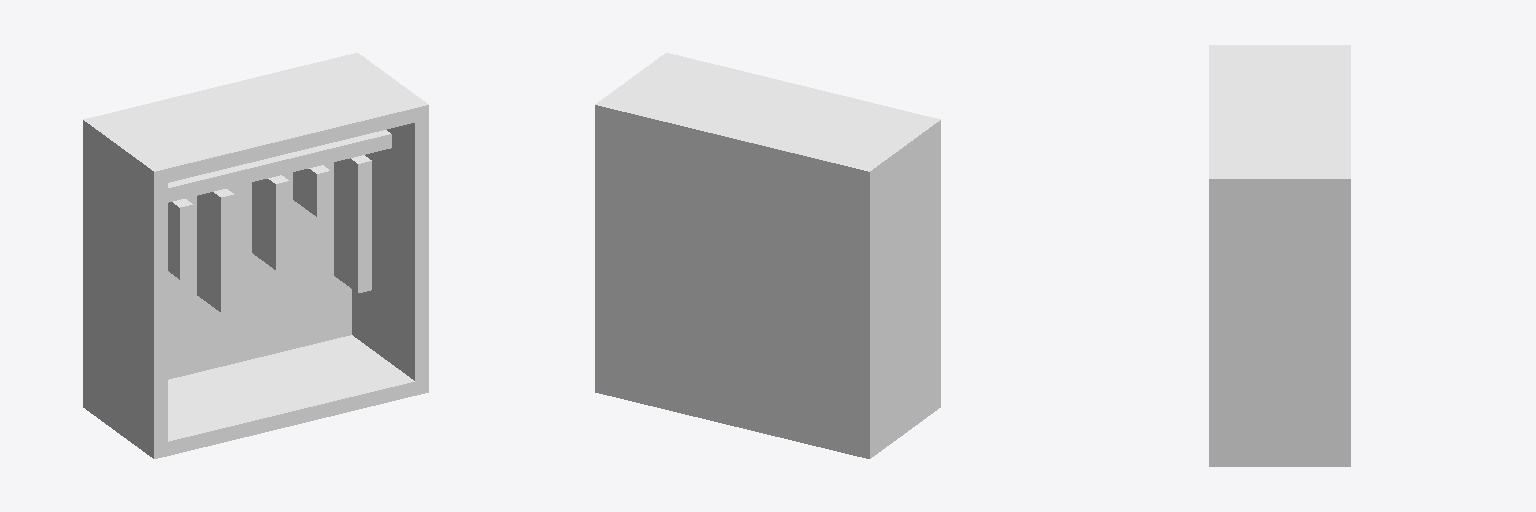
File: Wardrobe.obj
3 renders of one model, left to right at view 1: azimuth 30°, elevation 25°; view 2: azimuth 150°, elevation 25°; view 3: azimuth 270°, elevation 25°, orthographic.
Parts seen in each view (by area): view 1: object 1; view 2: object 1; view 3: object 1.
Boxes of the visible parts, <box> form: object 1: <box>83,53,428,458</box>; object 1: <box>595,53,940,458</box>; object 1: <box>1209,45,1350,466</box>.
Size of the model in its own units: 2 by 2 by 0.9.